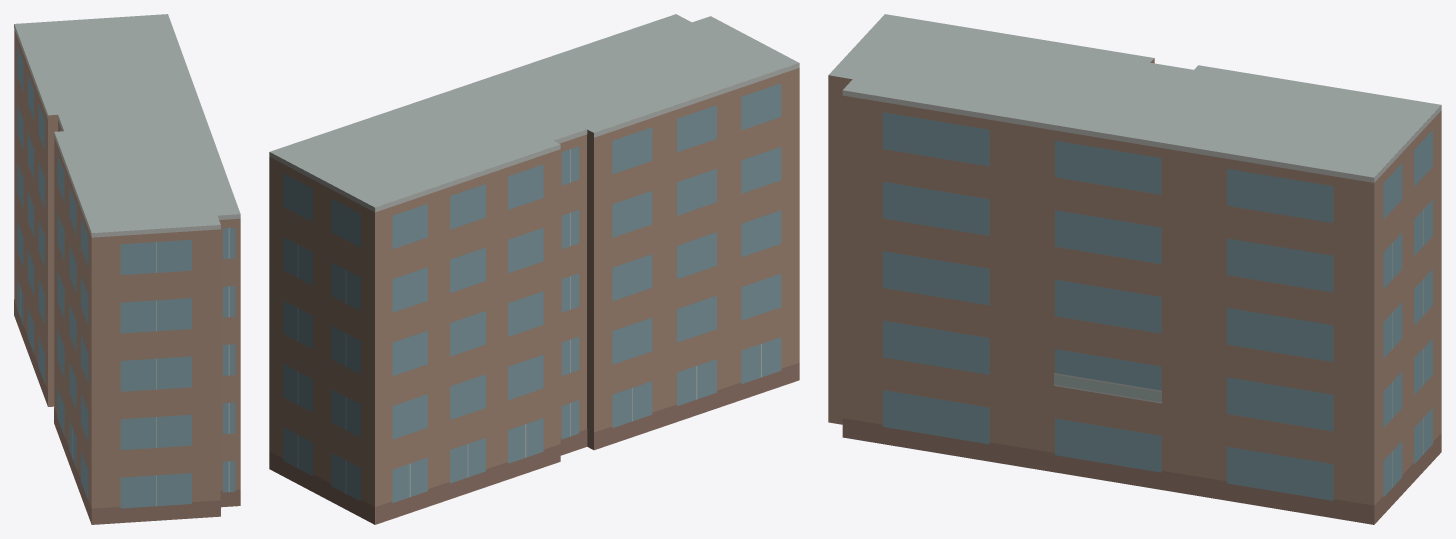
The model's file is survey-upis-32967262.glb.
3 renders of one model, left to right at view 1: azimuth 30°, elevation 25°; view 2: azimuth 150°, elevation 25°; view 3: azimuth 270°, elevation 25°, orthographic. The views are drawn at different scales.
Visible parts, largest first — view 1: survey-upis-32967262.tmp; view 2: survey-upis-32967262.tmp; view 3: survey-upis-32967262.tmp.
Part boxes in pixels (x1,y1,x2,y2): survey-upis-32967262.tmp: (14, 14, 240, 524); survey-upis-32967262.tmp: (269, 14, 799, 524); survey-upis-32967262.tmp: (828, 14, 1441, 524).
Size of the model in its own units: 16.24 by 16.05 by 25.7.
